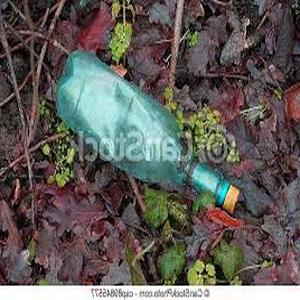Plastic: (51, 41, 241, 223)
